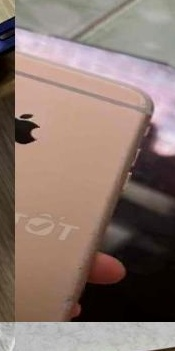scratch: (19, 168, 136, 322), (90, 72, 175, 132)
